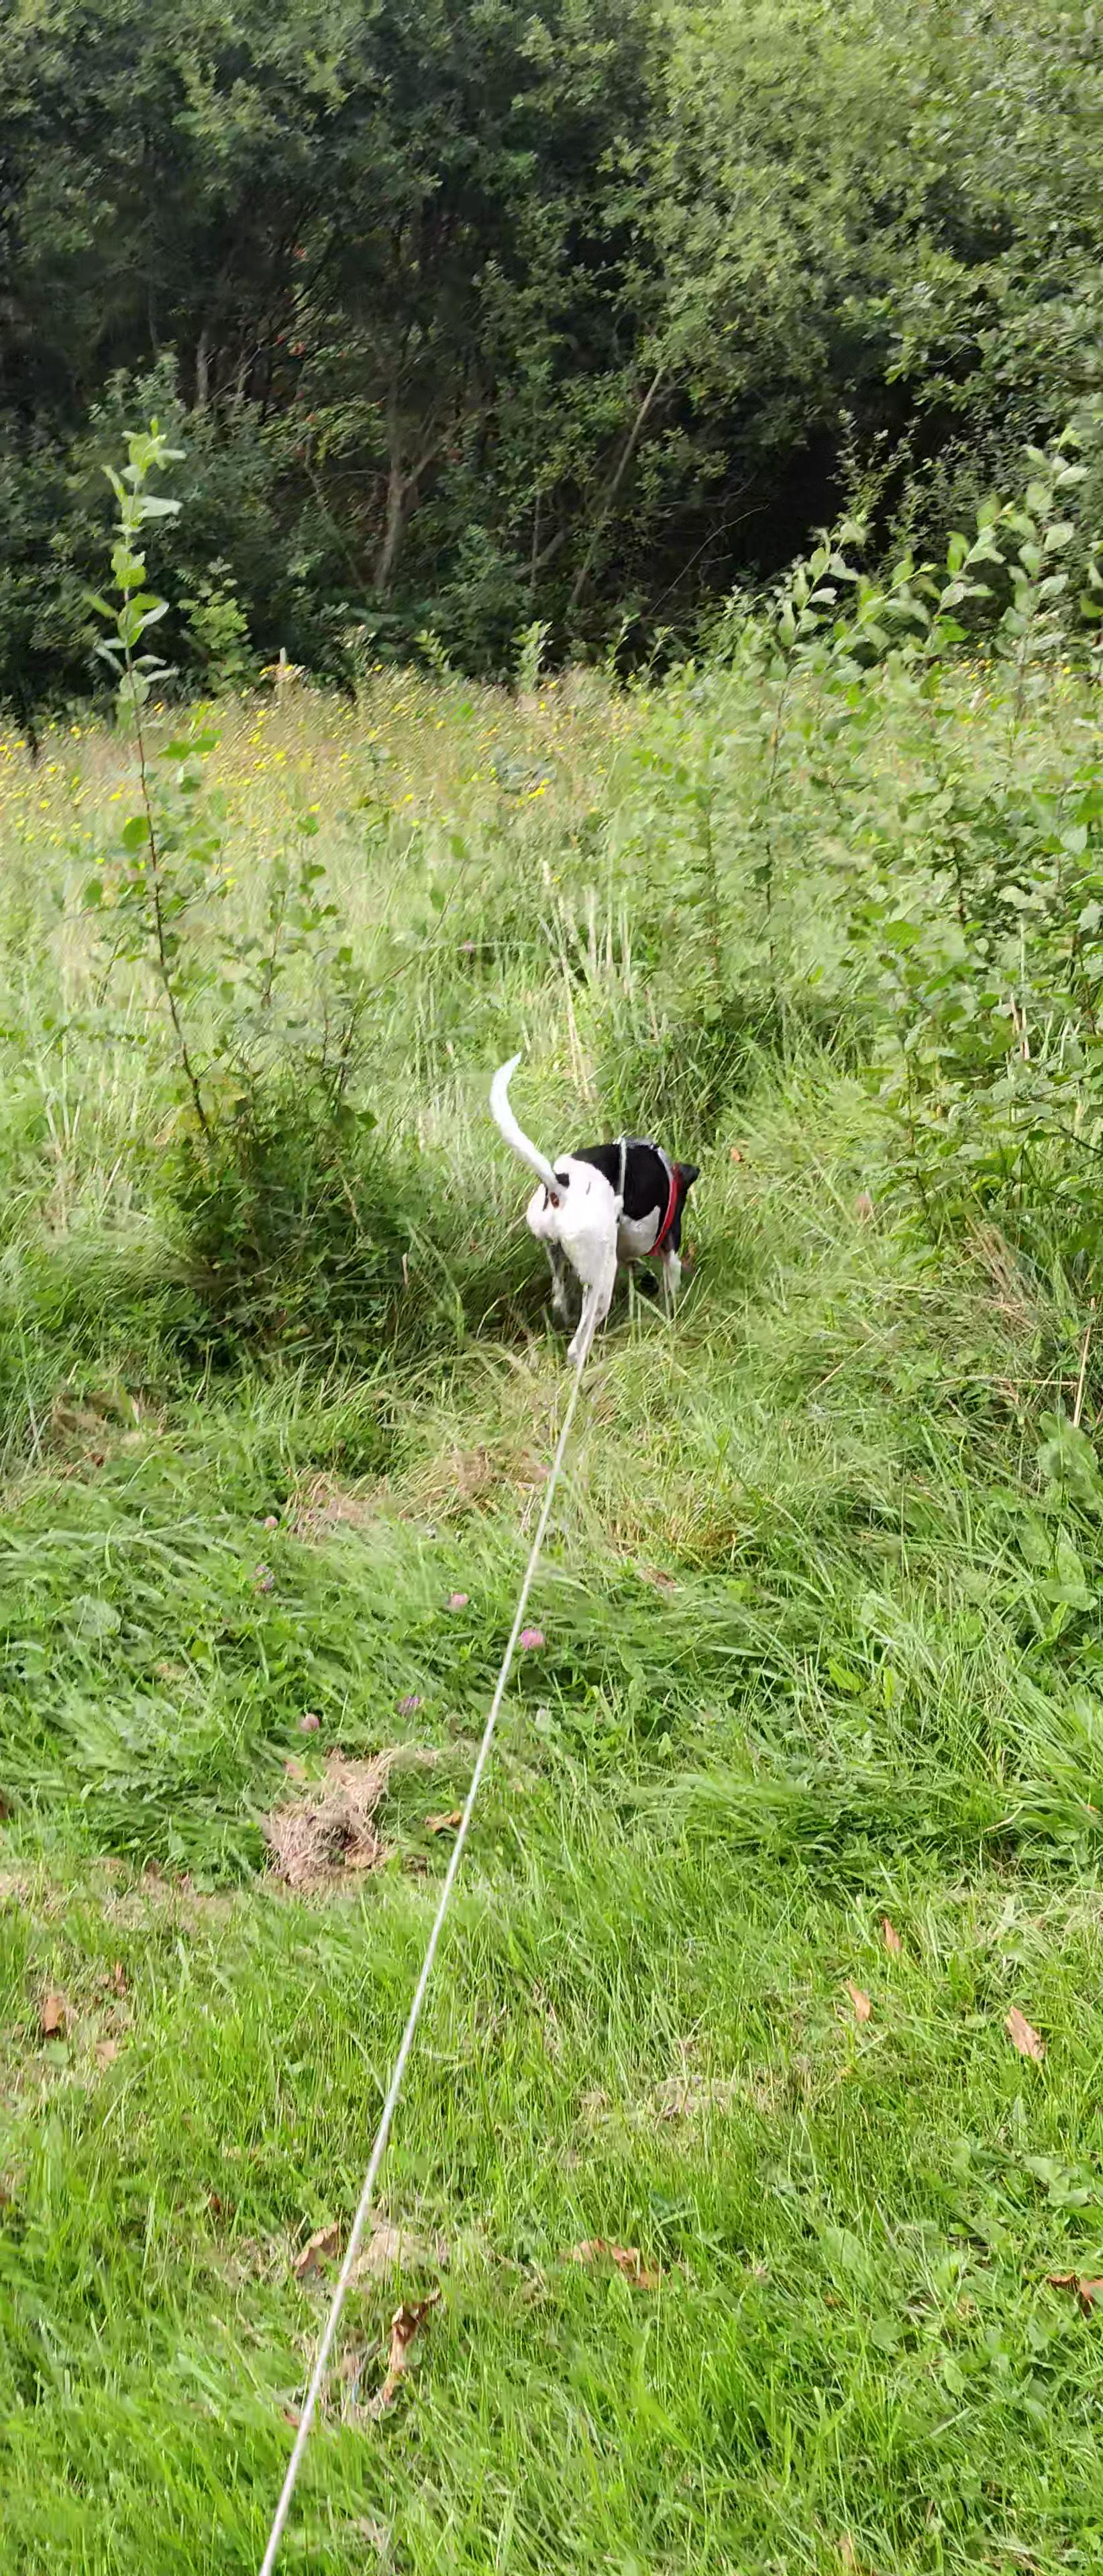Dog: (472, 1040, 730, 1390)
